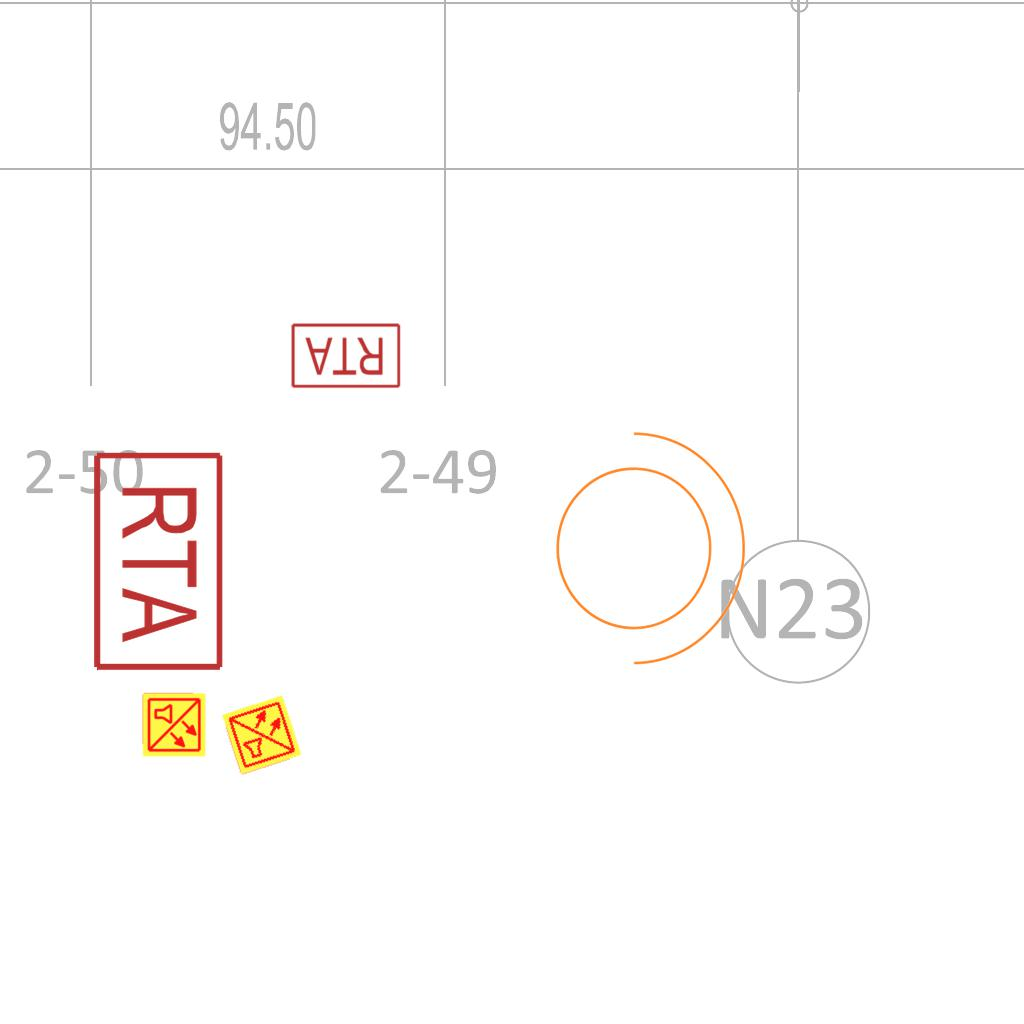OKW_Multisensormelder_(Kombination_optischer_Rauch-Kahlenmonoxid_Waerme-Melder): (220, 693, 304, 777), (141, 692, 207, 758)
Ruf-und_Abstelltaster: (89, 445, 227, 673), (290, 321, 404, 390)
Scheinwerfer_fuer_Alarmbeleuchtung: (531, 410, 756, 674)
